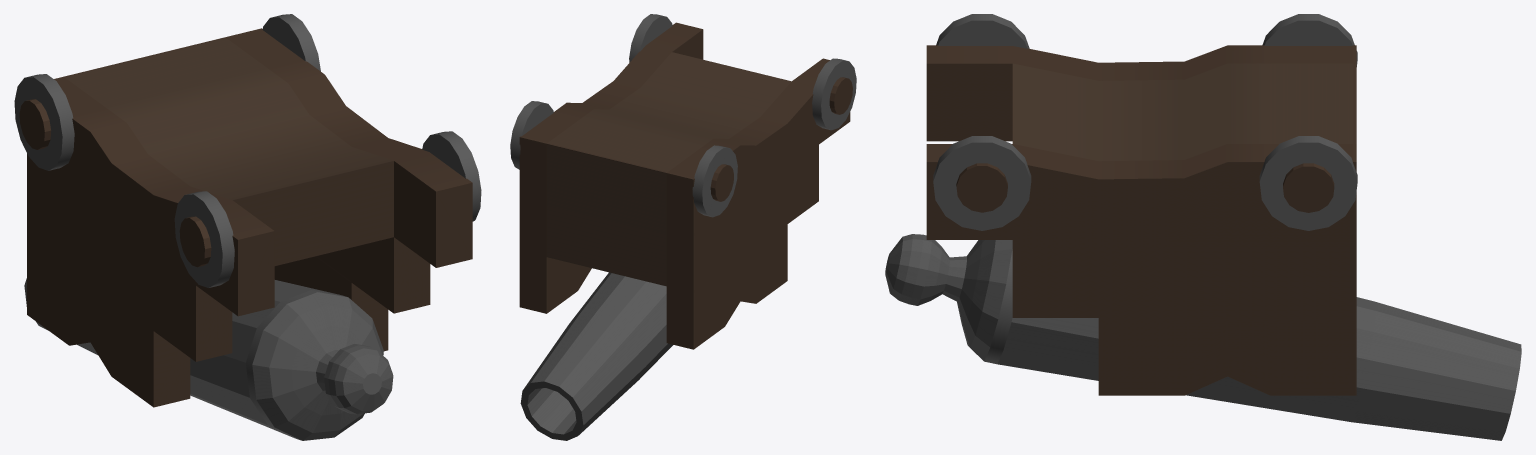
The model's file is Cannon.FBX.
The picture shows the model from 3 angles, left to right: view 1: azimuth 30°, elevation 25°; view 2: azimuth 150°, elevation 25°; view 3: azimuth 270°, elevation 25°; orthographic projection. The views are drawn at different scales.
Parts seen in each view (by area): view 1: Box002; view 2: Box002; view 3: Box002.
Part boxes in pixels (left/top/right/bottom): Box002: left=14, top=14, right=481, bottom=440; Box002: left=510, top=14, right=856, bottom=440; Box002: left=885, top=14, right=1521, bottom=440.
Bounding box in the file's own units: 37.15 × 46.1 × 74.05.
2 materials, 2 textured.
